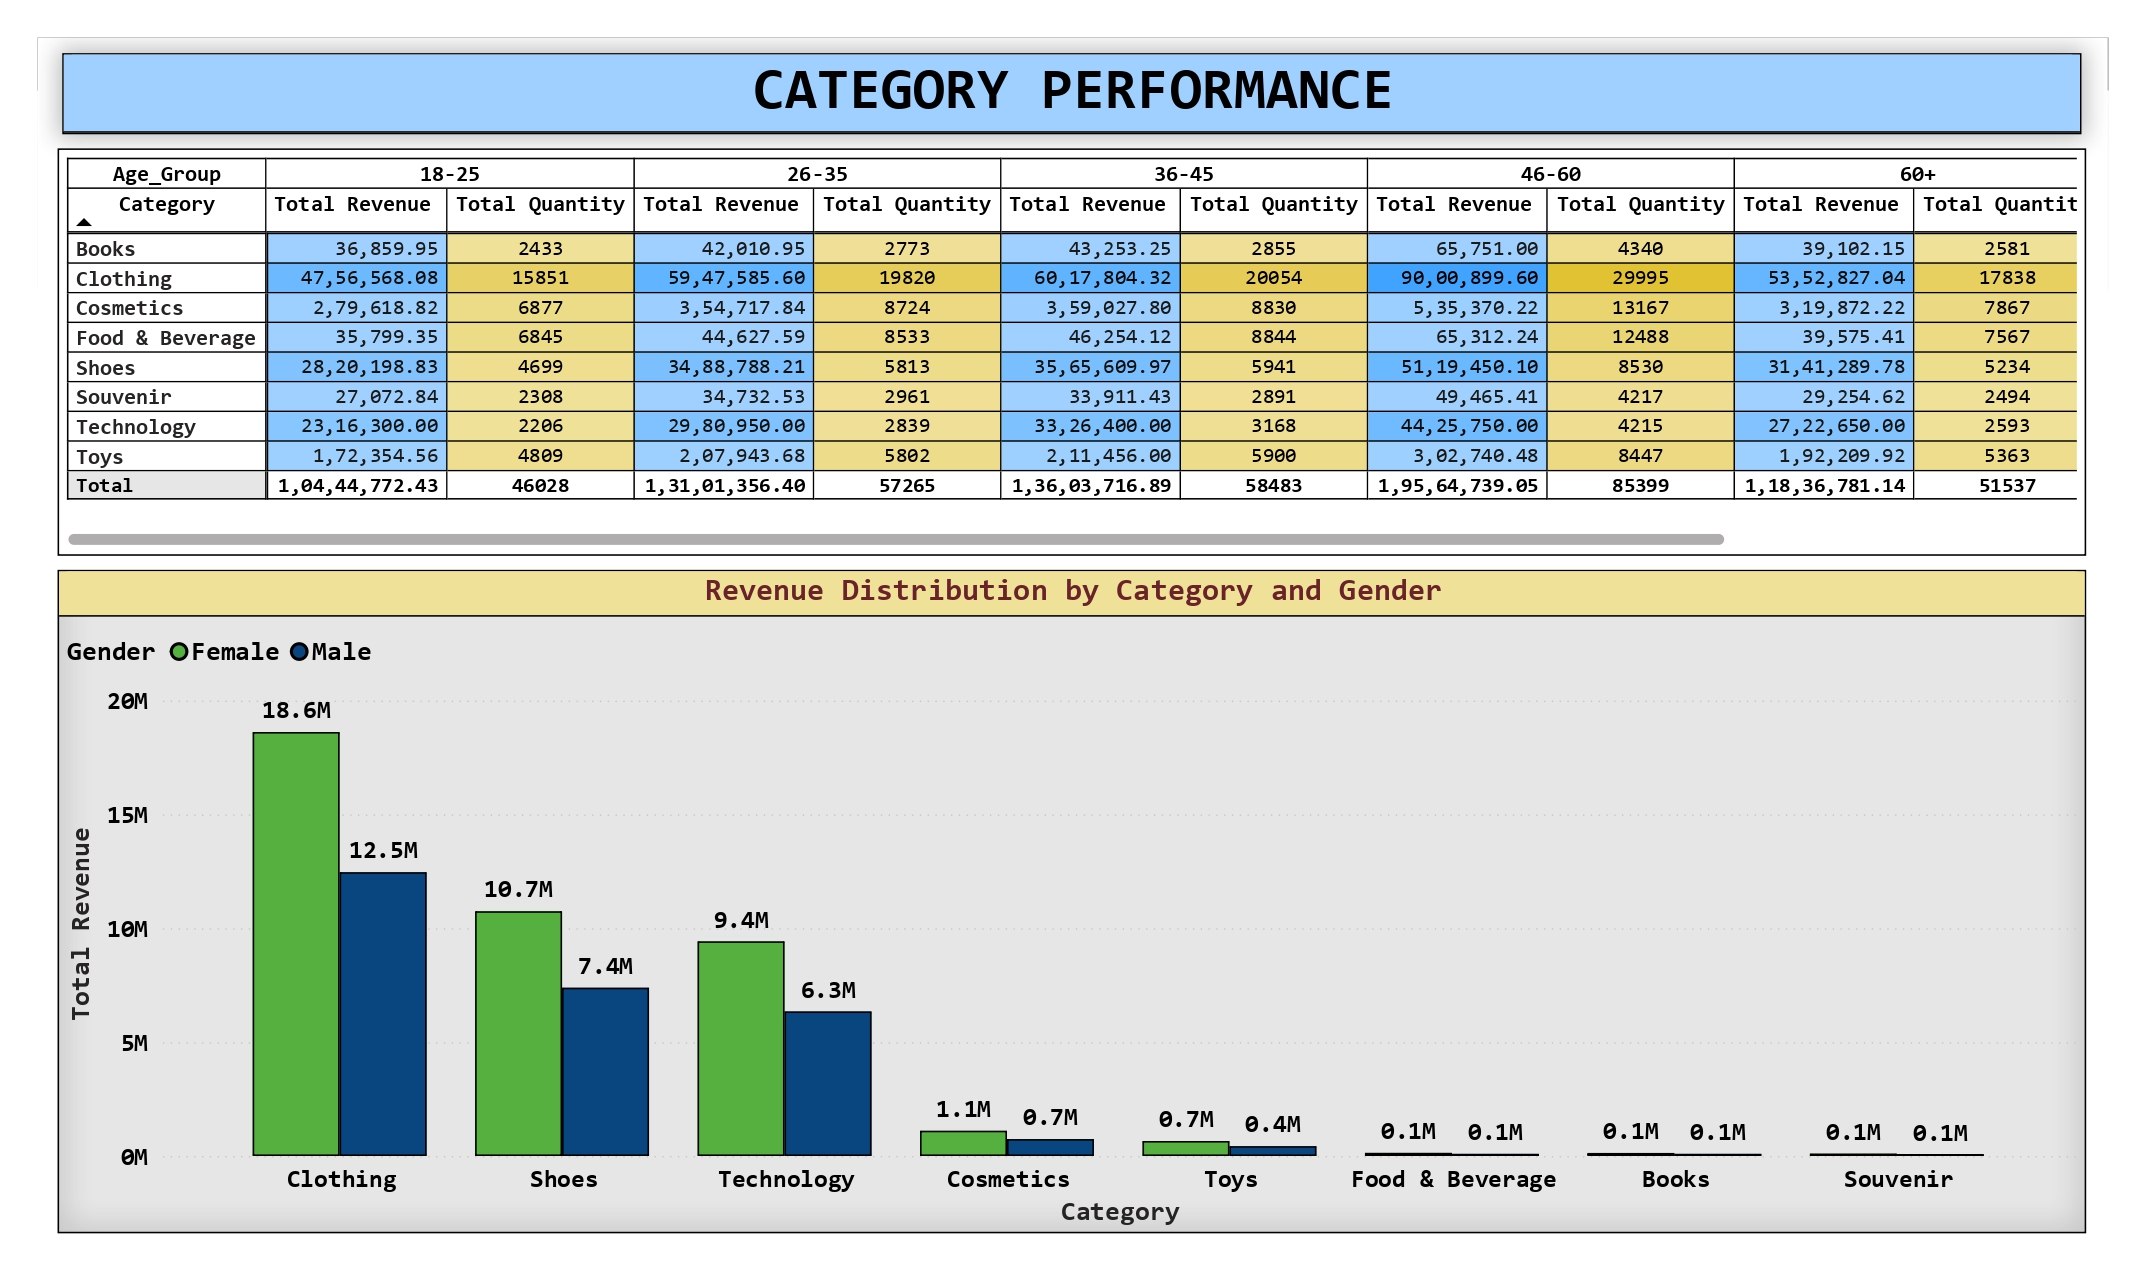

What the dashboard file says about the page in this screenshot:
{"tool":"powerbi","page":{"name":"Dashboard_Category_Performance","canvas":[1325,775],"ordinal":13},"visuals":[{"type":"textbox","title":"CATEGORY PERFORMANCE","box":[15,10,1293.9,52],"z":0},{"type":"pivotTable","fields":{"Rows":["customer.category"],"Values":["Sum(customer.revenue)","Sum(customer.quantity)"],"Columns":["customer.age_group"]},"box":[11.8,71.1,1300.4,260.6],"z":1000},{"type":"clusteredColumnChart","title":"Revenue Distribution by Category and Gender","fields":{"Category":["customer.category"],"Y":["Sum(customer.revenue)"],"Series":["customer.gender"]},"box":[11.8,340.9,1300.4,425.1],"z":2000}]}

Visuals, with their boxes on the page's 1325x775 design canvas (x1, y1, x2, y2). These are canvas units, not pixel positions in the 2146x1286 screenshot, which may show the page scaled, cropped or inside an application window:
"CATEGORY PERFORMANCE" textbox: left=15, top=10, right=1309, bottom=62
pivotTable - customer.category x Sum(customer.revenue): left=12, top=71, right=1312, bottom=332
"Revenue Distribution by Category and Gender" clusteredColumnChart: left=12, top=341, right=1312, bottom=766
